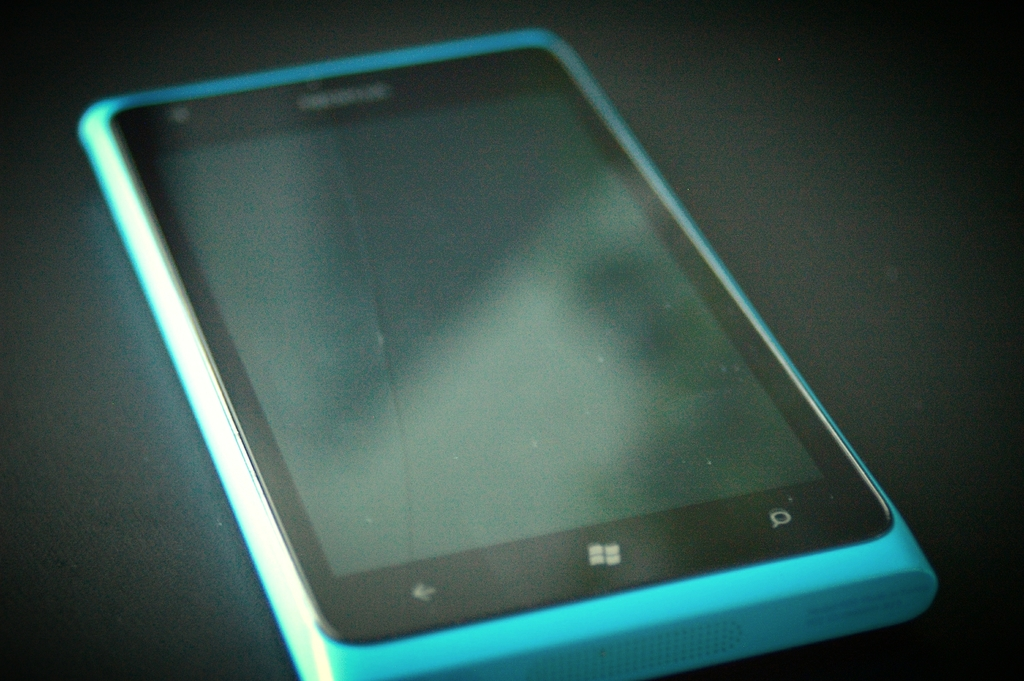Mobile-phone: (80, 19, 930, 681)
